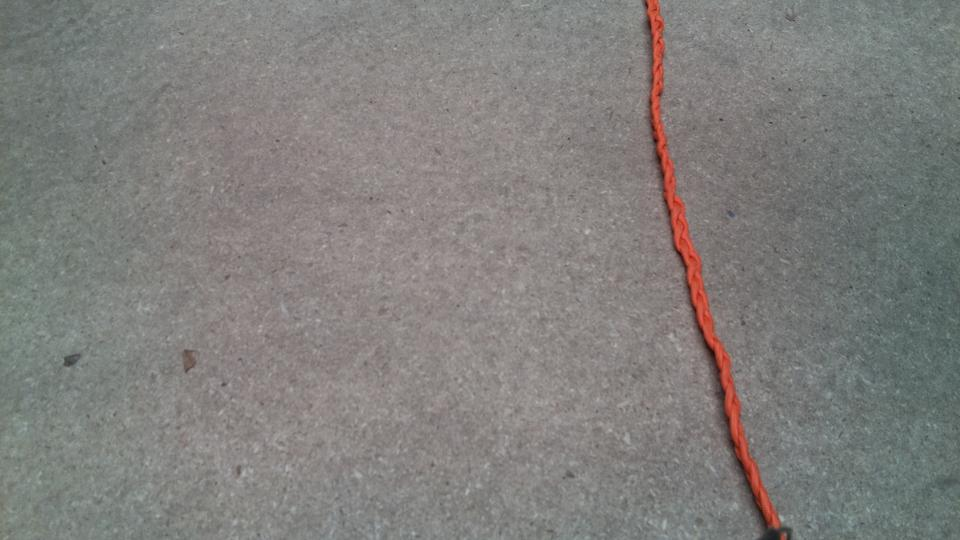rope: (641, 2, 795, 540)
